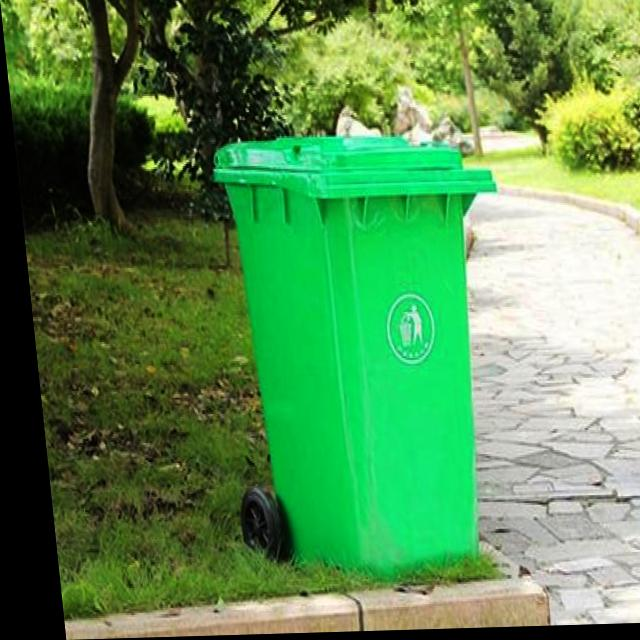garbage_bin: (204, 131, 522, 572)
